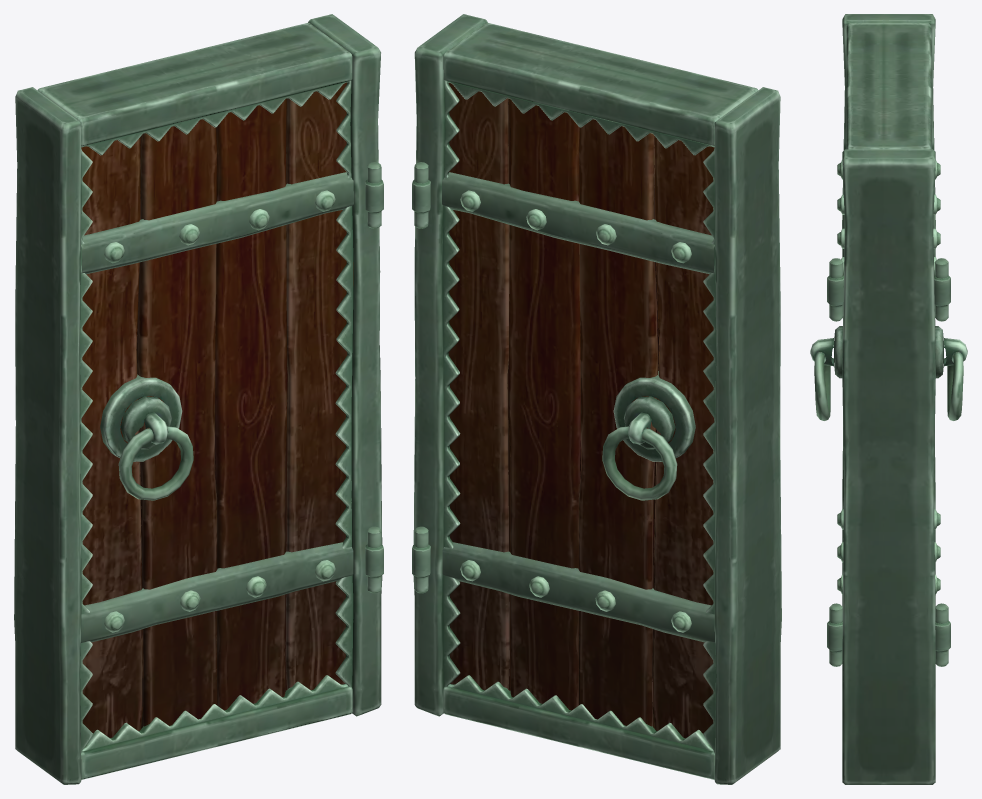
The picture shows the model from 3 angles, left to right: view 1: azimuth 30°, elevation 25°; view 2: azimuth 150°, elevation 25°; view 3: azimuth 270°, elevation 25°; orthographic projection. The views are drawn at different scales.
Visible parts, largest first — view 1: SM_BB_T4_Door_01_LOD0; view 2: SM_BB_T4_Door_01_LOD0; view 3: SM_BB_T4_Door_01_LOD0.
Part boxes in pixels (box(x1,y1,x2,y2)): SM_BB_T4_Door_01_LOD0: box(14, 14, 383, 784); SM_BB_T4_Door_01_LOD0: box(412, 14, 781, 784); SM_BB_T4_Door_01_LOD0: box(810, 14, 967, 784).
Size of the model in its own units: 1.29 by 2.54 by 0.5748.
1 material, 1 textured.
